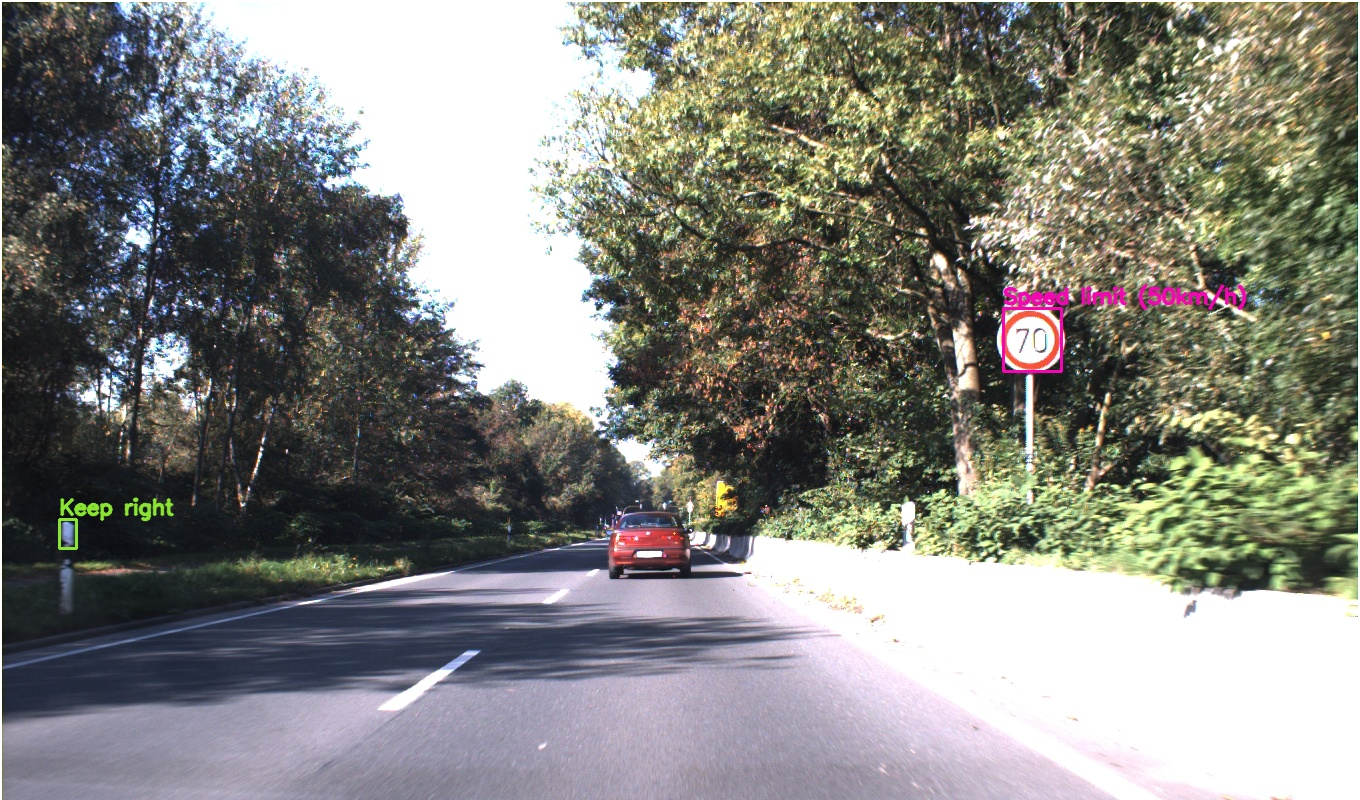Slippery road: (946, 300, 1026, 373)
